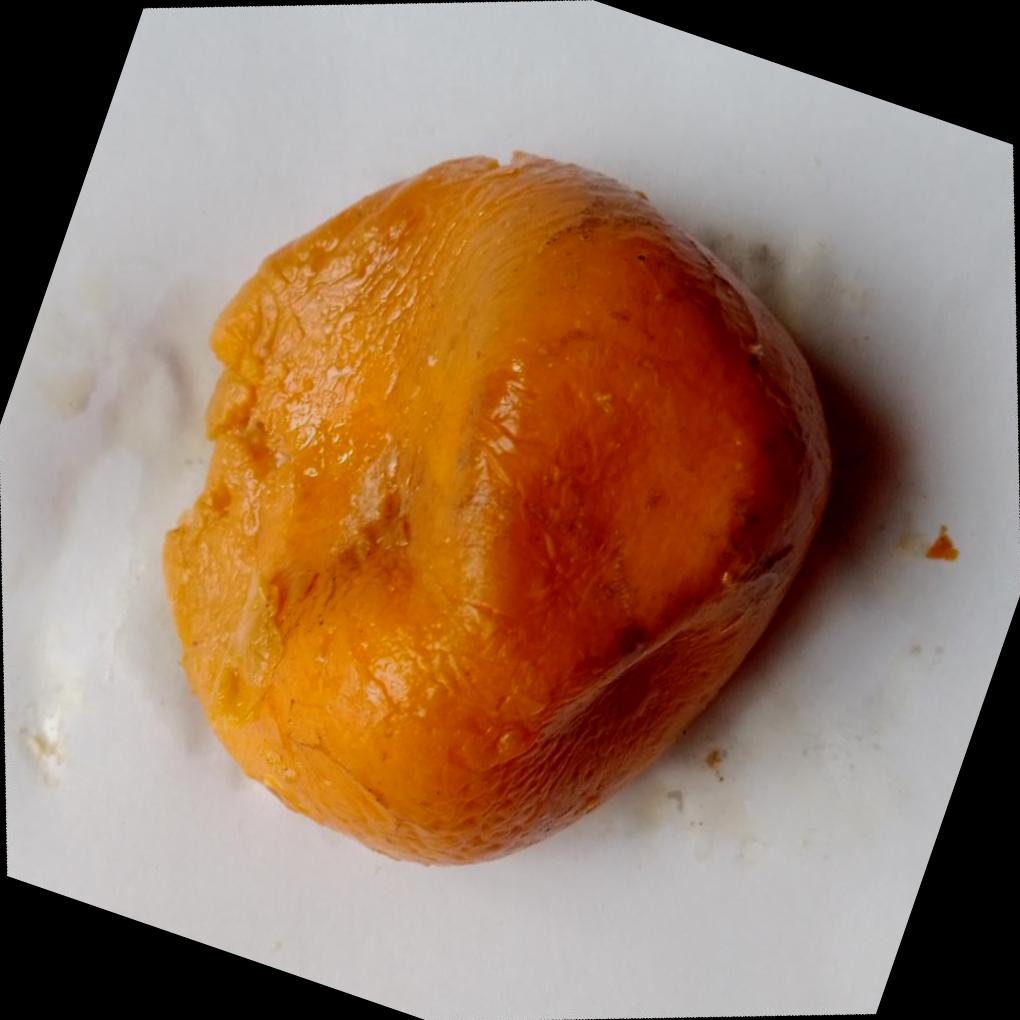FreshOrange: (162, 150, 838, 871)
